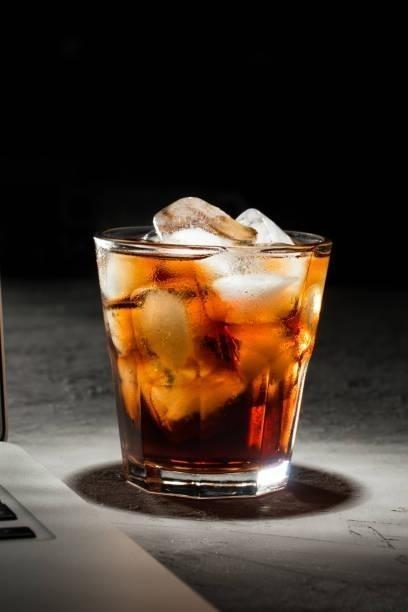glass-normal: (91, 221, 334, 498)
